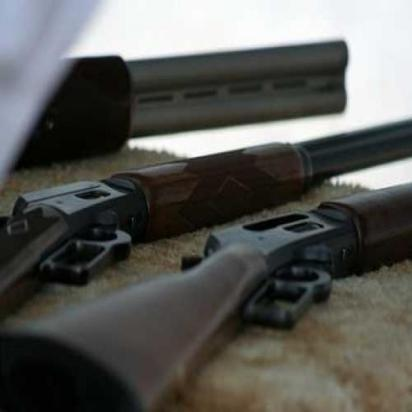Gun: (0, 178, 412, 412), (0, 112, 412, 318)
